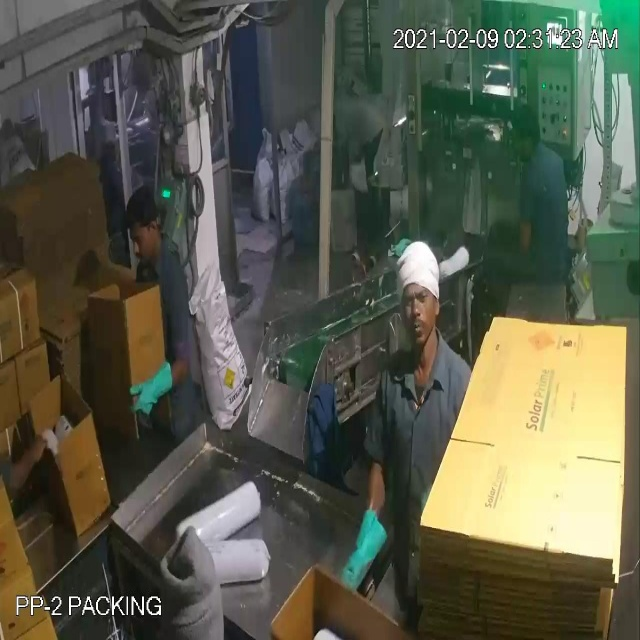Guantes: (330, 497, 392, 608), (122, 352, 183, 430)
Sin_guantes: (4, 415, 61, 516)
